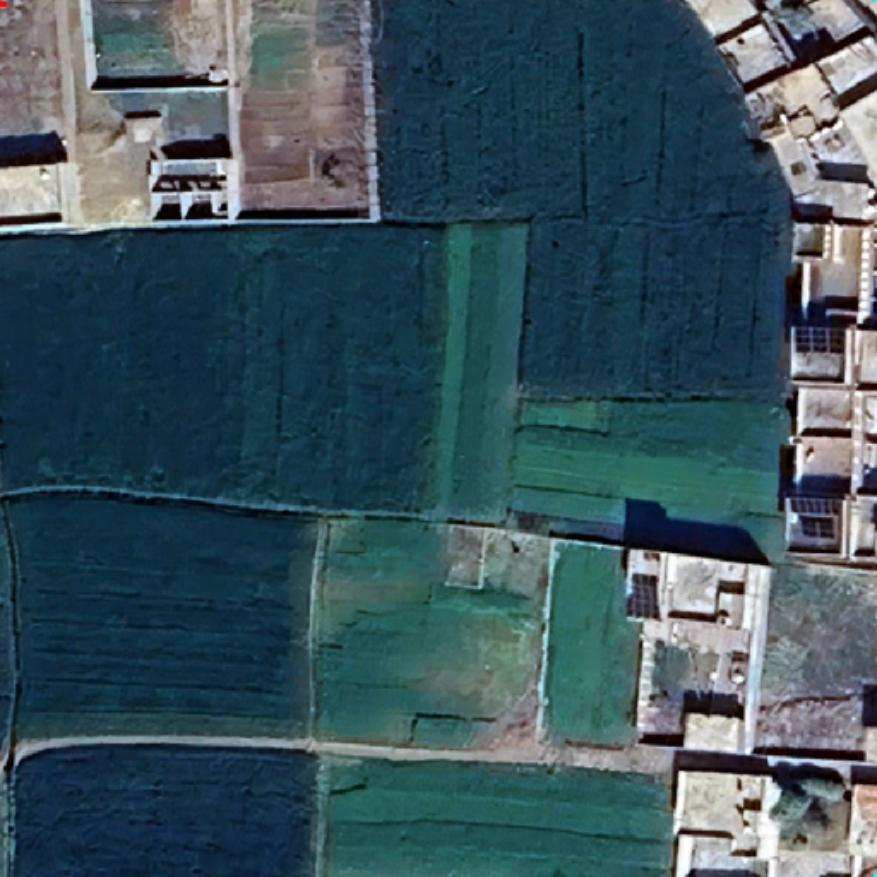Solarpanel: (622, 570, 662, 622), (792, 322, 848, 356), (786, 490, 846, 518), (798, 514, 838, 541)
